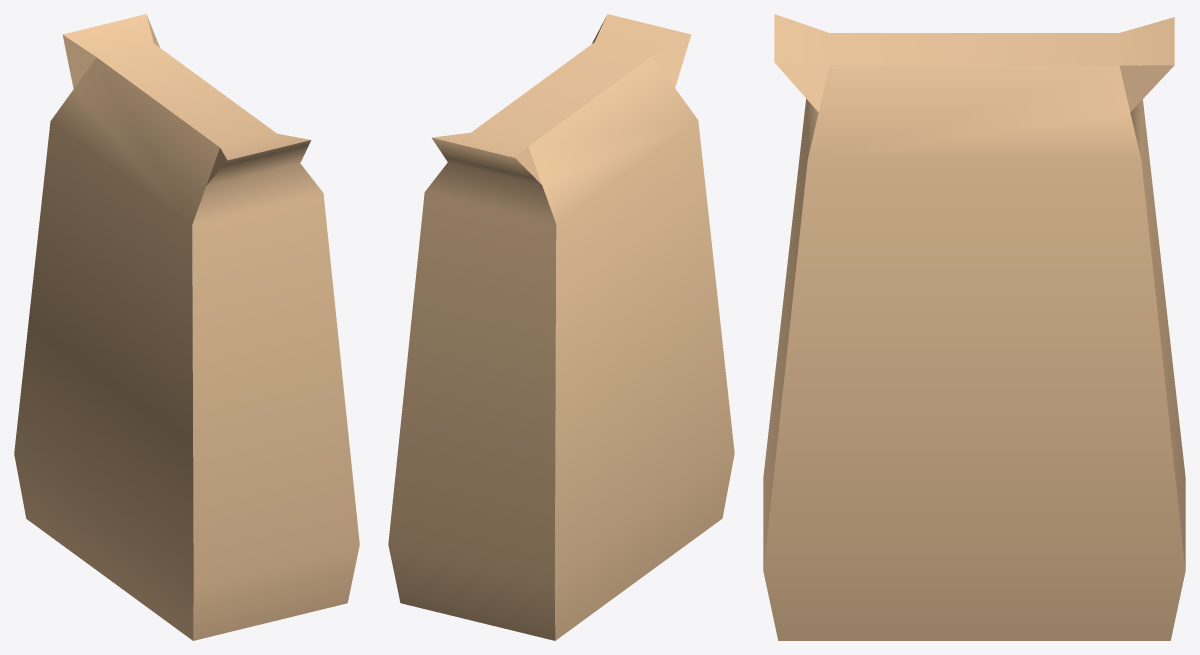
Rendered from paper_bag.glb.
3 views of the same model, side by side, from view 1: azimuth 30°, elevation 25°; view 2: azimuth 150°, elevation 25°; view 3: azimuth 270°, elevation 25° (orthographic). The views are drawn at different scales.
Parts seen in each view (by area): view 1: bag; view 2: bag; view 3: bag.
Boxes of the visible parts, left/top/right/bottom form: bag: left=14, top=14, right=359, bottom=640; bag: left=388, top=14, right=734, bottom=640; bag: left=763, top=14, right=1185, bottom=640.
Size of the model in its own units: 0.2201 by 0.5998 by 0.4118.
